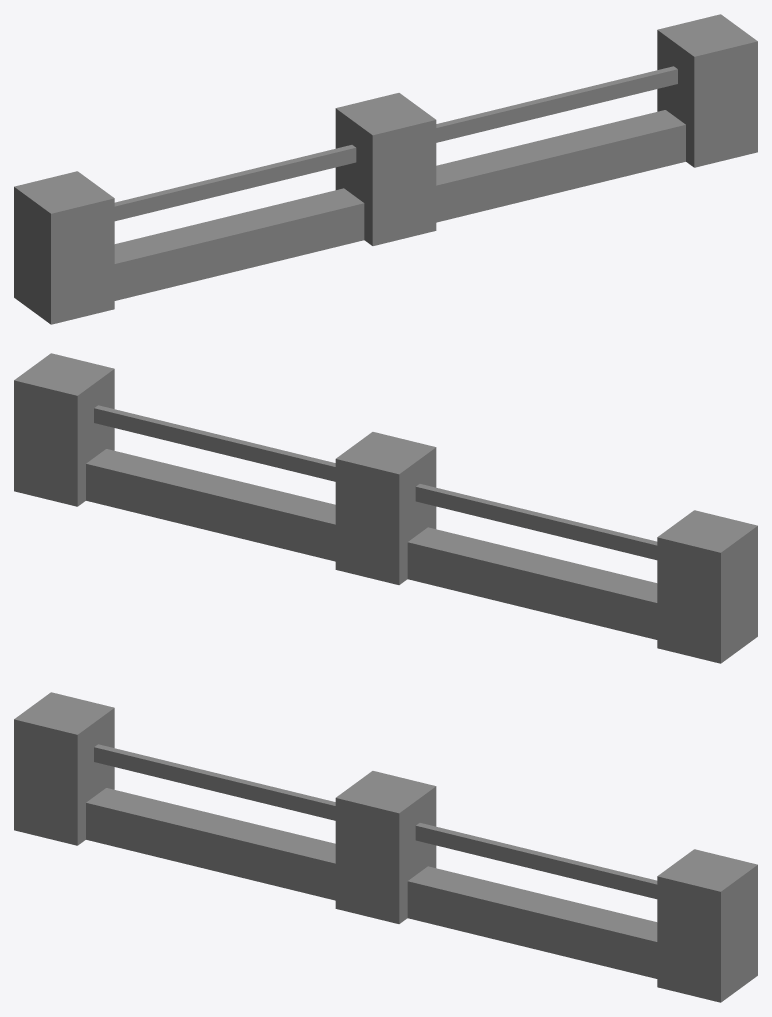
File: fence_03.fbx
3 renders of one model, top to bottom at view 1: azimuth 30°, elevation 25°; view 2: azimuth 150°, elevation 25°; view 3: azimuth 330°, elevation 25°, orthographic.
Visible parts, largest first — view 1: fence_03; view 2: fence_03; view 3: fence_03.
Boxes of the visible parts, x1,y1,x2,y2 form: fence_03: (14, 14, 757, 324); fence_03: (14, 353, 757, 663); fence_03: (14, 692, 757, 1002).
Bounding box in the file's own units: 10 × 1.5 × 0.91.
